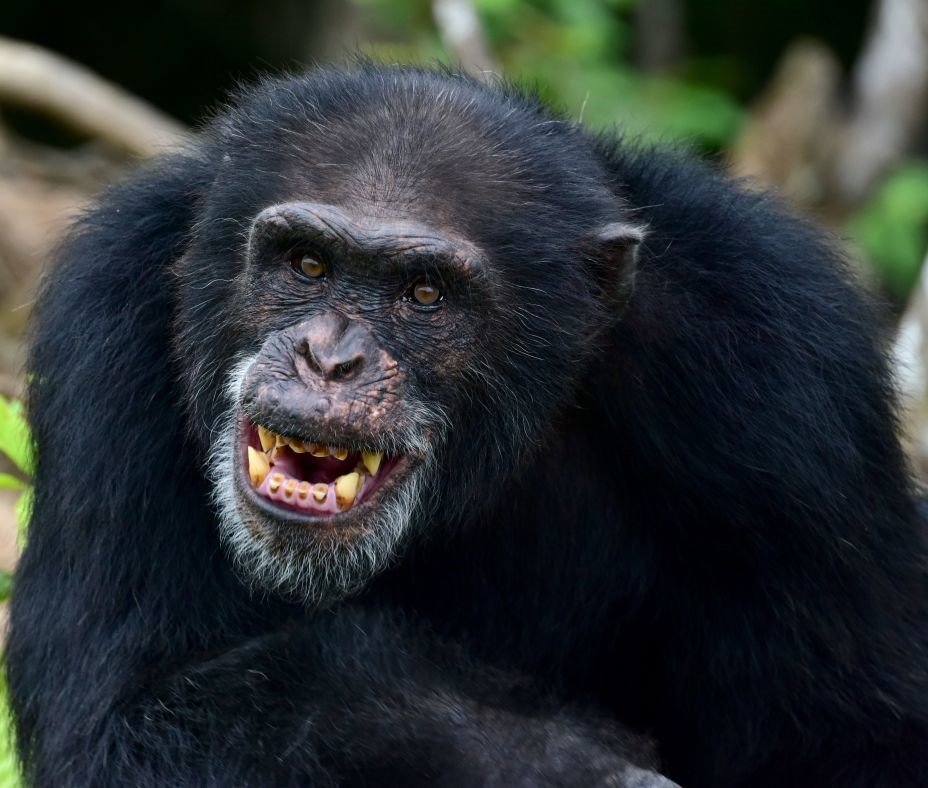Chimpanzee: (101, 117, 782, 761)
